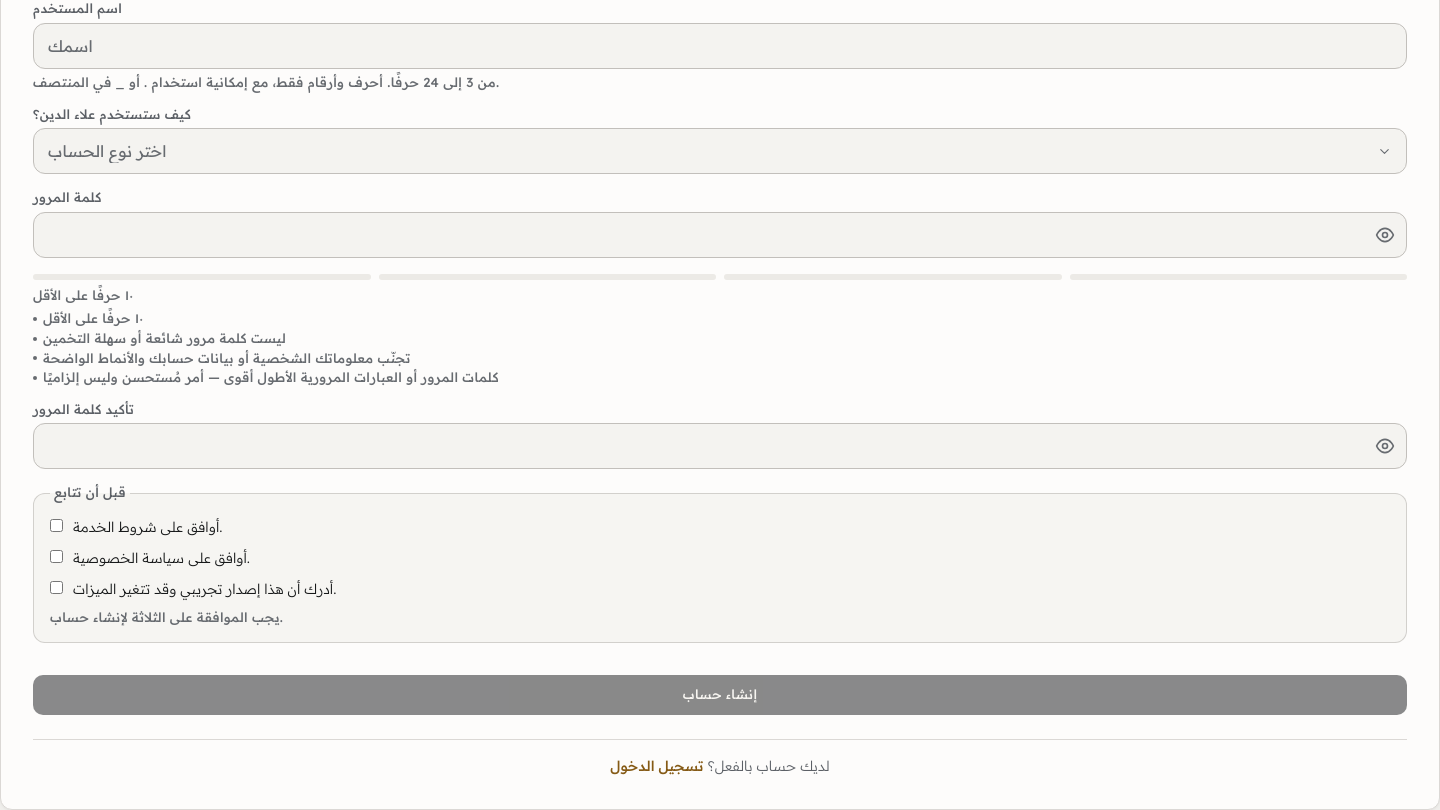
Test: PasswordSignUpForm › disables submit until all three consents are checked
(page scrolled)
Check: the button "إنشاء حساب" is disabled, box 33,674 -> 1407,714
What coordinates should you click on to do the following:
click the checkbox labelled "أوافق على شروط الخدمة."
I would click on:
 (56, 525)
Its box is 50,519 -> 63,532.
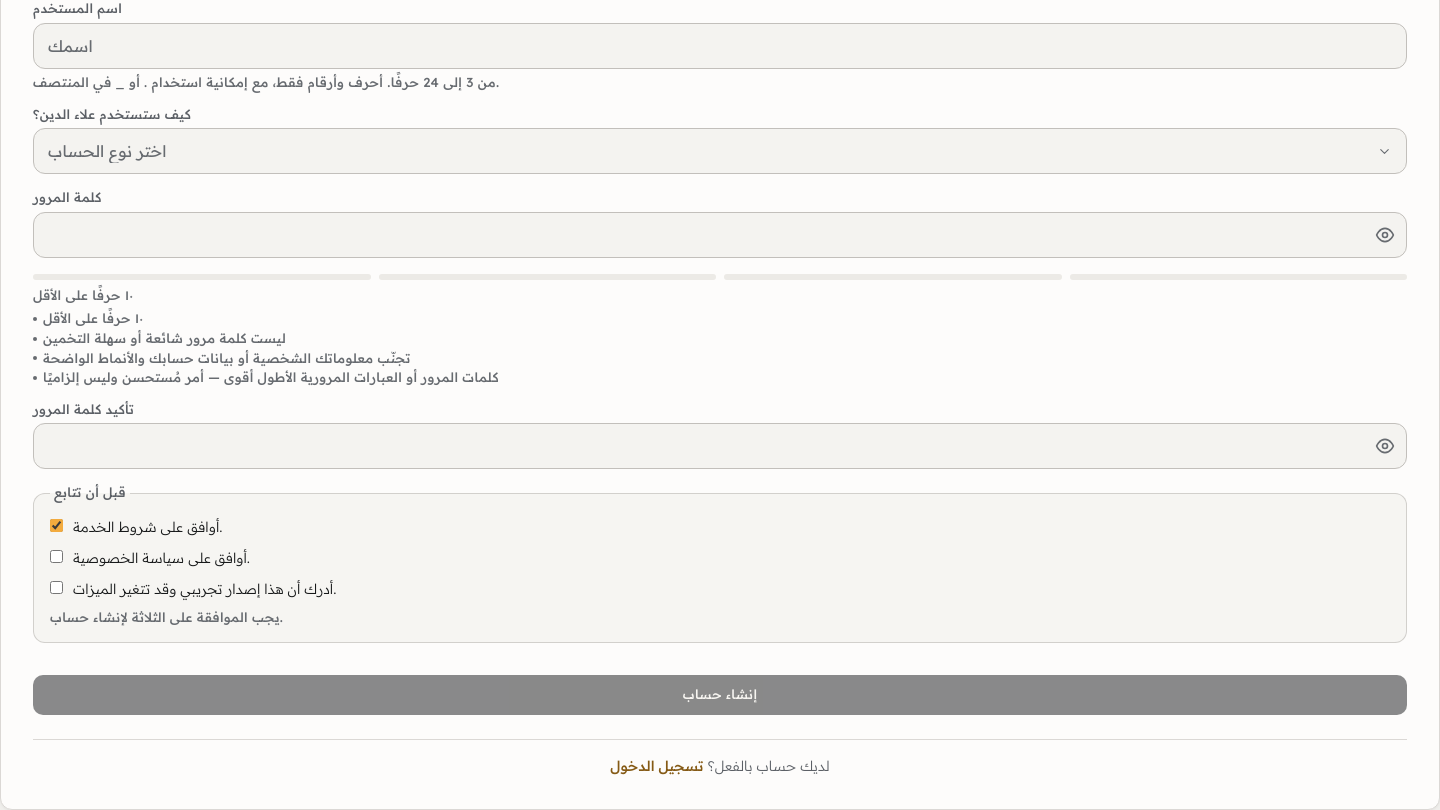
What coordinates should you click on to do the following:
click the checkbox labelled "أوافق على سياسة الخصوصية."
I would click on:
 (56, 556)
Its box is 50,550 -> 63,563.
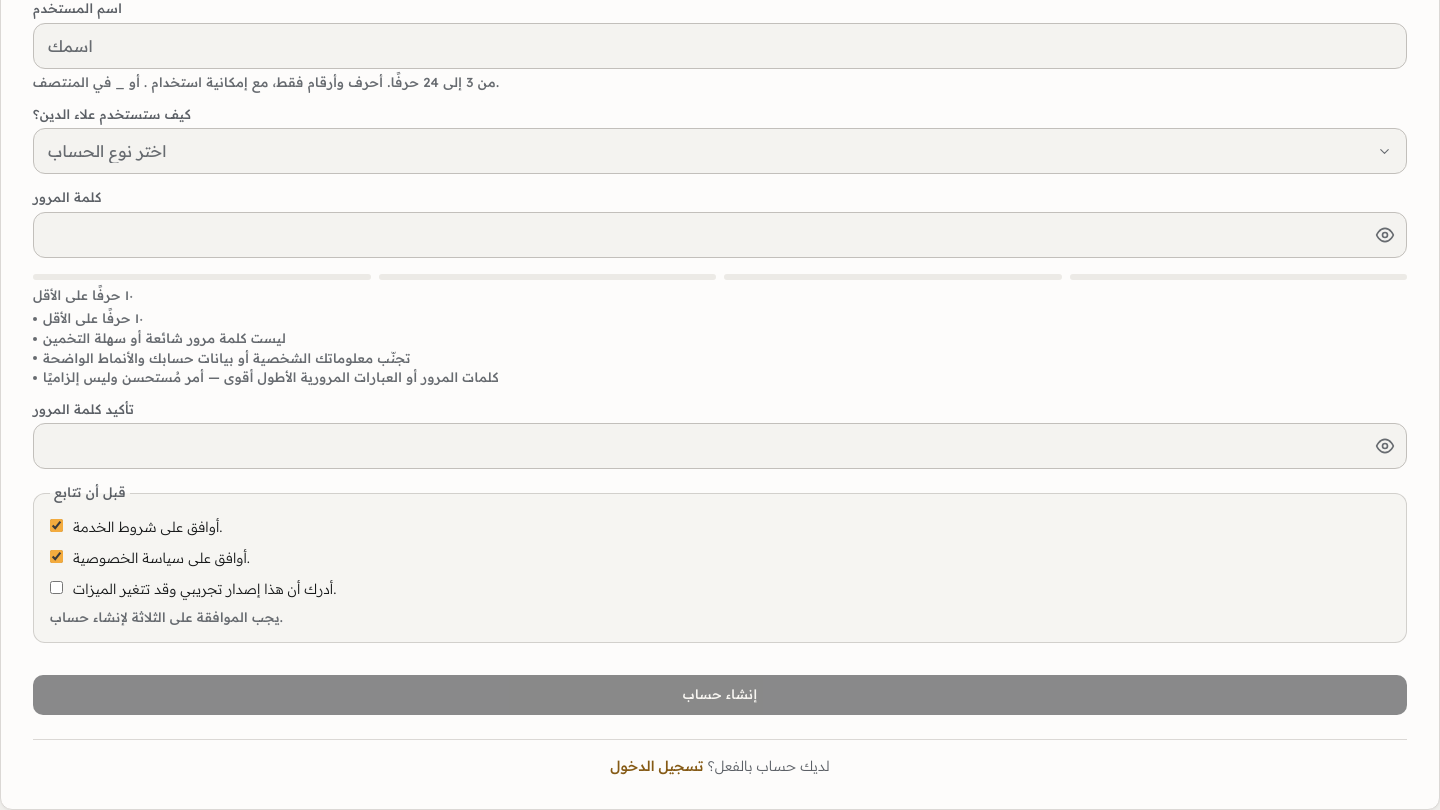
Check: the button "إنشاء حساب" is disabled, box 33,674 -> 1407,714
What coordinates should you click on to do the following:
click the checkbox labelled "أدرك أن هذا إصدار تجريبي وقد تتغير الميزات."
I would click on:
 (56, 587)
Its box is 50,581 -> 63,594.
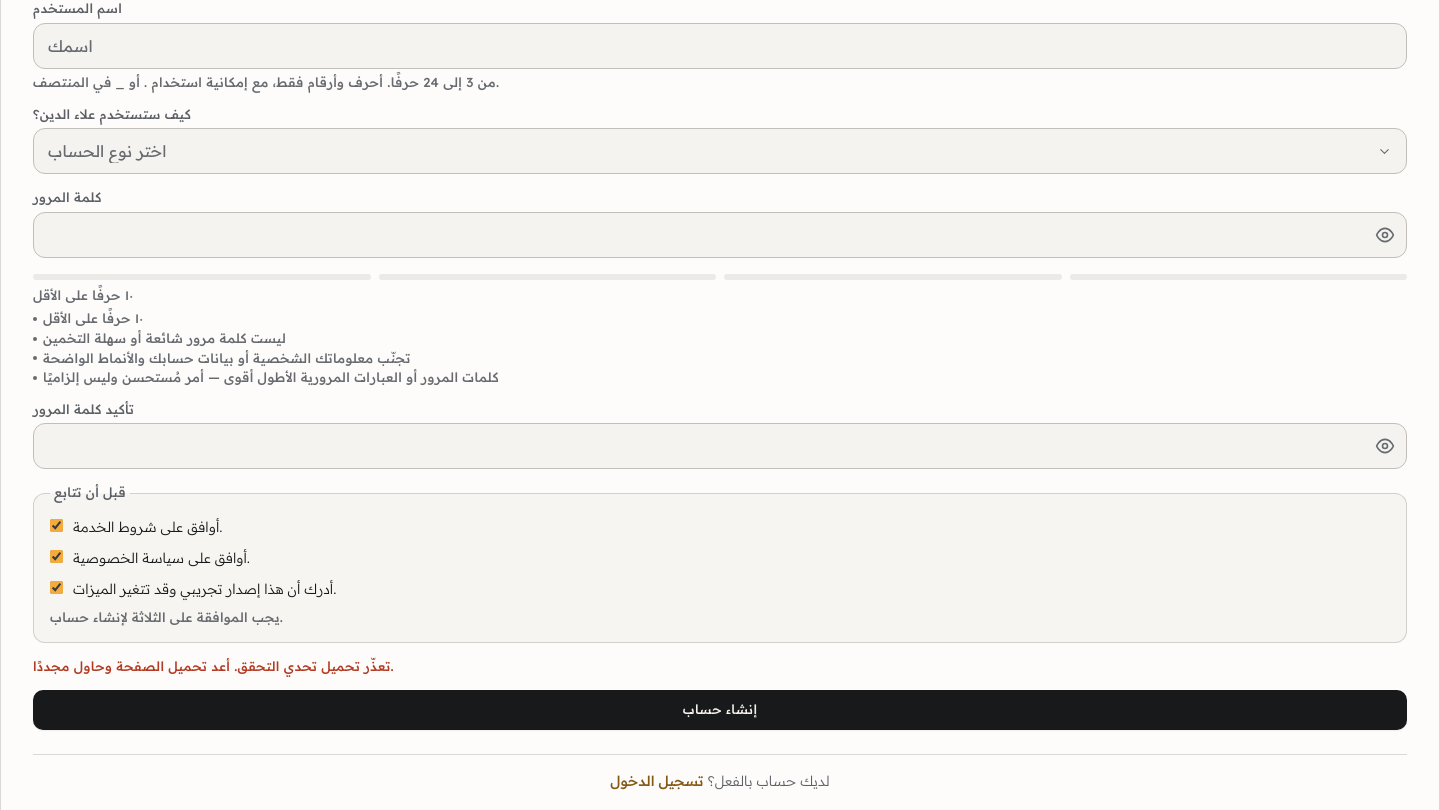
Check: the button "إنشاء حساب" is enabled, box 33,690 -> 1407,730
